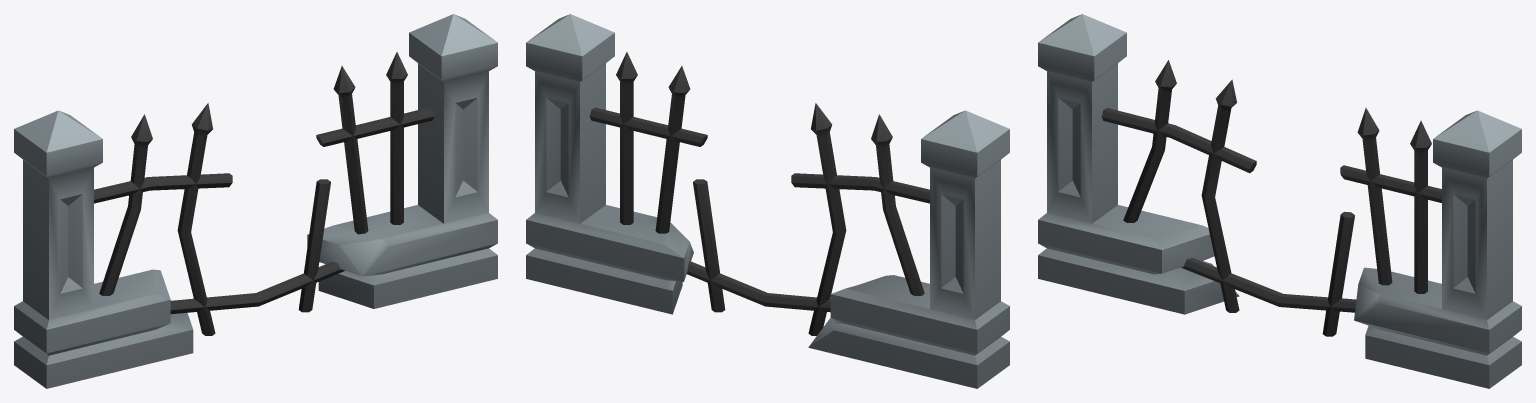
The model's file is fence_broken.glb.
The picture shows the model from 3 angles, left to right: view 1: azimuth 30°, elevation 25°; view 2: azimuth 150°, elevation 25°; view 3: azimuth 330°, elevation 25°; orthographic projection.
Visible parts, largest first — view 1: fence_broken; view 2: fence_broken; view 3: fence_broken.
Part boxes in pixels (bbox=[...]): fence_broken: bbox=[14, 14, 497, 388]; fence_broken: bbox=[526, 14, 1009, 388]; fence_broken: bbox=[1038, 14, 1521, 388].
Size of the model in its own units: 4 by 2.2 by 0.5.
Materials: 1 (1 with a texture image).
